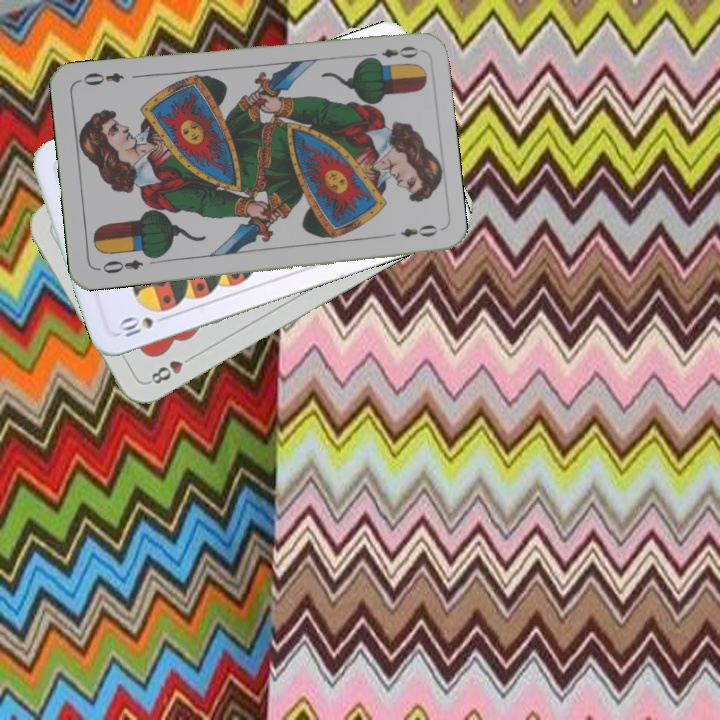EO: (363, 42, 421, 64), (94, 256, 146, 277)
H8: (143, 351, 197, 387)
S10: (114, 313, 157, 340)
